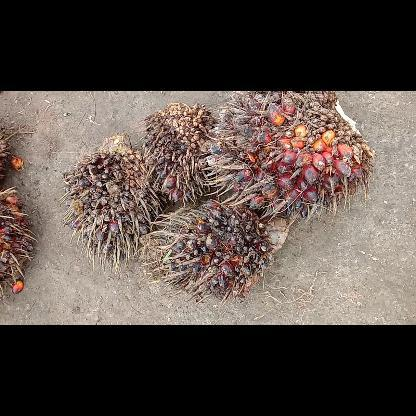TBS abnormal: (147, 205, 289, 299), (64, 134, 166, 260), (142, 101, 218, 202)
TBS masak: (209, 91, 373, 216)
